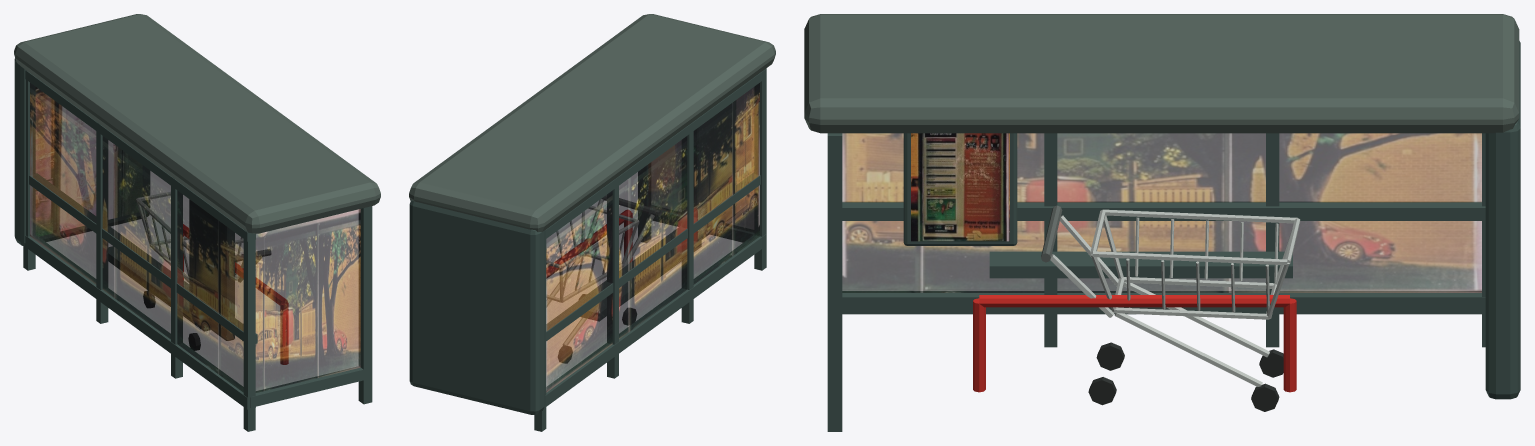
The model's file is harperhay-bus-shelter.glb.
3 renders of one model, left to right at view 1: azimuth 30°, elevation 25°; view 2: azimuth 150°, elevation 25°; view 3: azimuth 270°, elevation 25°, orthographic. The views are drawn at different scales.
Parts seen in each view (by area): view 1: shelter-rounded-roof, shelter-rear-photographic-glass, shelter-side-photographic-glass, shelter-illuminated-advert, shelter-timetable-housing, shelter-rear-bottom-rail, shelter-rear-mid-rail, shelter-advert-housing, shelter-front-post-south, shelter-rear-post-0, shelter-rear-top-rail, shelter-rear-post-2 (+6 smaller); view 2: shelter-rounded-roof, shelter-rear-photographic-glass, shelter-advert-housing, shelter-timetable-housing, shelter-rear-bottom-rail, shelter-side-photographic-glass, shelter-rear-mid-rail, shelter-rear-top-rail, shelter-rear-post-0, shelter-rear-post-1, shelter-rear-post-2, shelter-perch (+4 smaller); view 3: shelter-rounded-roof, shelter-rear-photographic-glass, shelter-timetable-display, shelter-rear-bottom-rail, shelter-advert-housing, shelter-rear-mid-rail, shelter-perch, shelter-front-post-south, shelter-red-rail-horizontal, shelter-timetable-housing, shelter-rear-post-2, shelter-rear-post-1 (+9 smaller).
Boxes of the visible parts, <box> form: shelter-rounded-roof: <box>14,14,380,233</box>; shelter-rear-photographic-glass: <box>30,83,243,392</box>; shelter-side-photographic-glass: <box>255,209,360,392</box>; shelter-illuminated-advert: <box>36,87,142,236</box>; shelter-timetable-housing: <box>189,199,234,340</box>; shelter-rear-bottom-rail: <box>24,235,255,409</box>; shelter-rear-mid-rail: <box>29,173,257,343</box>; shelter-advert-housing: <box>14,58,149,245</box>; shelter-front-post-south: <box>358,206,372,404</box>; shelter-rear-post-0: <box>243,231,255,431</box>; shelter-rear-top-rail: <box>25,70,255,241</box>; shelter-rear-post-2: <box>96,123,108,323</box>; shelter-rounded-roof: <box>409,14,775,231</box>; shelter-rear-photographic-glass: <box>546,83,759,392</box>; shelter-advert-housing: <box>409,200,545,414</box>; shelter-timetable-housing: <box>694,100,735,241</box>; shelter-rear-bottom-rail: <box>544,234,766,408</box>; shelter-side-photographic-glass: <box>648,87,753,232</box>; shelter-rear-mid-rail: <box>546,173,760,340</box>; shelter-rear-top-rail: <box>545,68,766,239</box>; shelter-rear-post-0: <box>754,69,766,270</box>; shelter-rear-post-1: <box>681,123,693,323</box>; shelter-rear-post-2: <box>607,186,618,378</box>; shelter-perch: <box>580,240,701,321</box>; shelter-rounded-roof: <box>804,14,1519,133</box>; shelter-rear-photographic-glass: <box>842,133,1481,292</box>; shelter-timetable-display: <box>911,133,1009,241</box>; shelter-rear-bottom-rail: <box>842,291,1485,314</box>; shelter-advert-housing: <box>1485,41,1520,399</box>; shelter-rear-mid-rail: <box>842,202,1485,220</box>; shelter-perch: <box>989,251,1292,278</box>; shelter-front-post-south: <box>827,133,842,431</box>; shelter-red-rail-horizontal: <box>979,295,1289,307</box>; shelter-timetable-housing: <box>903,133,1017,245</box>; shelter-rear-post-2: <box>1266,133,1279,347</box>; shelter-rear-post-1: <box>1044,133,1057,347</box>.
Bounding box in the file's own units: 1.58 × 2.5 × 4.91.
Materials: 9 (3 with a texture image).
